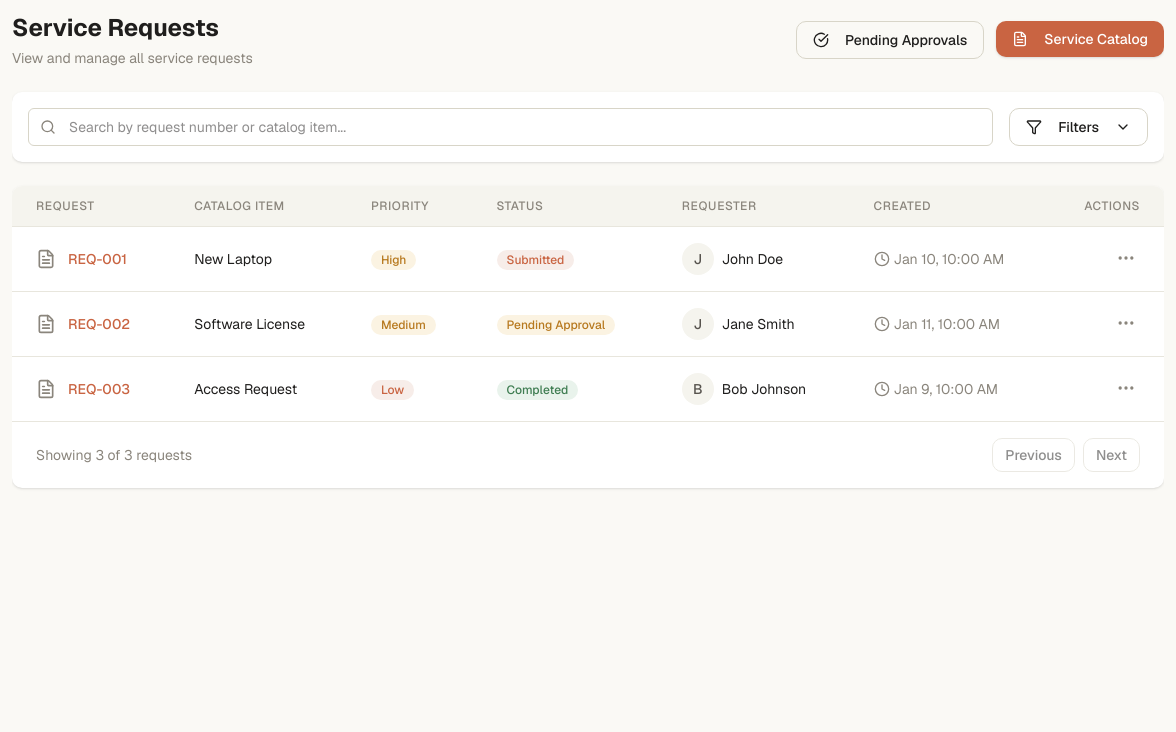
Test: RequestsPage › Filter Panel › toggles filter panel on button click
What coordinates should you click on to do the following:
click the button "Filters"
I would click on:
 (1079, 127)
Its box is left=1009, top=108, right=1148, bottom=146.
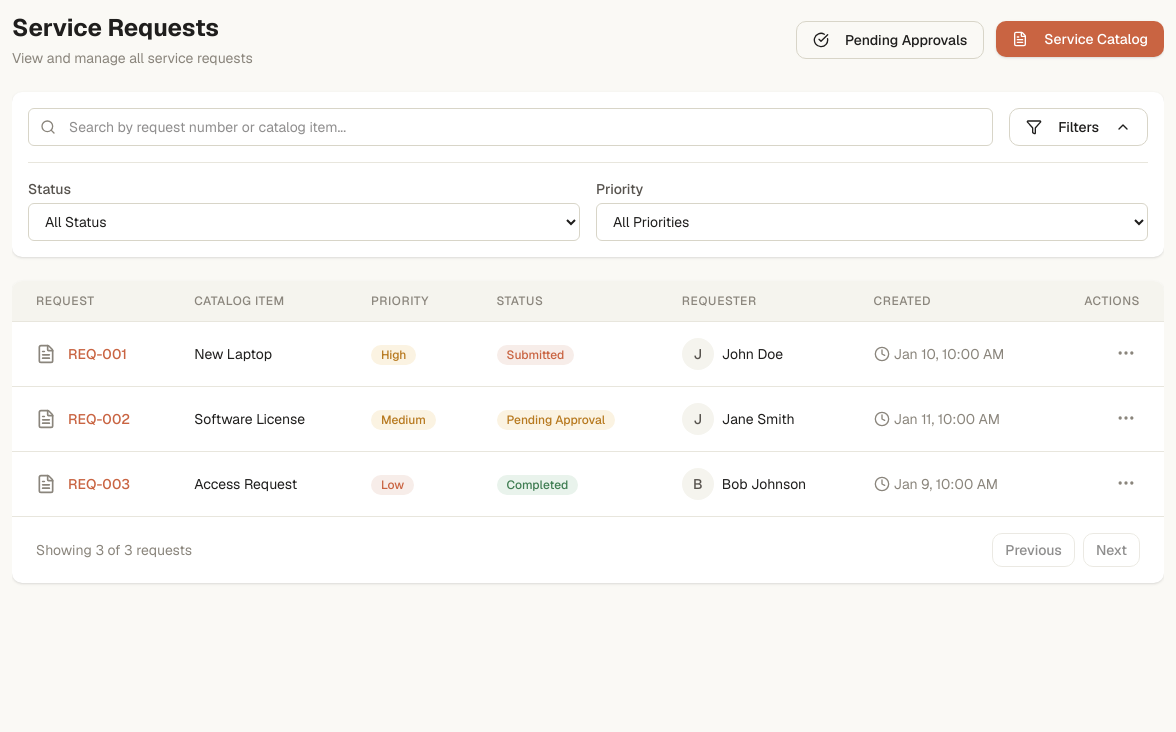
Now the text "Status" is shown, box left=28, top=180, right=71, bottom=198
